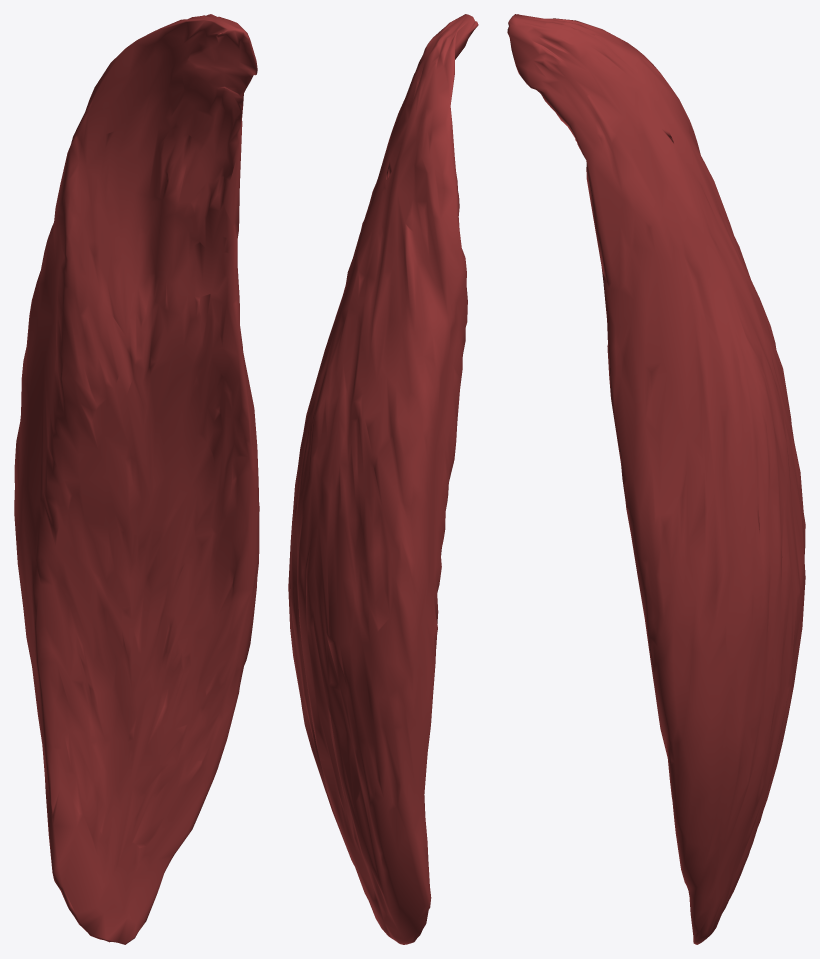
File: lateral-head-of-gastrocnemius-l.glb
3 views of the same model, side by side, from view 1: azimuth 30°, elevation 25°; view 2: azimuth 150°, elevation 25°; view 3: azimuth 270°, elevation 25° (orthographic). The views are drawn at different scales.
Visible parts, largest first — view 1: Lateral head of gastrocnemius.l; view 2: Lateral head of gastrocnemius.l; view 3: Lateral head of gastrocnemius.l.
Part boxes in pixels (box(x1,y1,x2,y2)): Lateral head of gastrocnemius.l: box(14, 14, 259, 944); Lateral head of gastrocnemius.l: box(288, 14, 478, 944); Lateral head of gastrocnemius.l: box(507, 14, 805, 944).
Bounding box in the file's own units: 0.0541 × 0.2693 × 0.0779.
